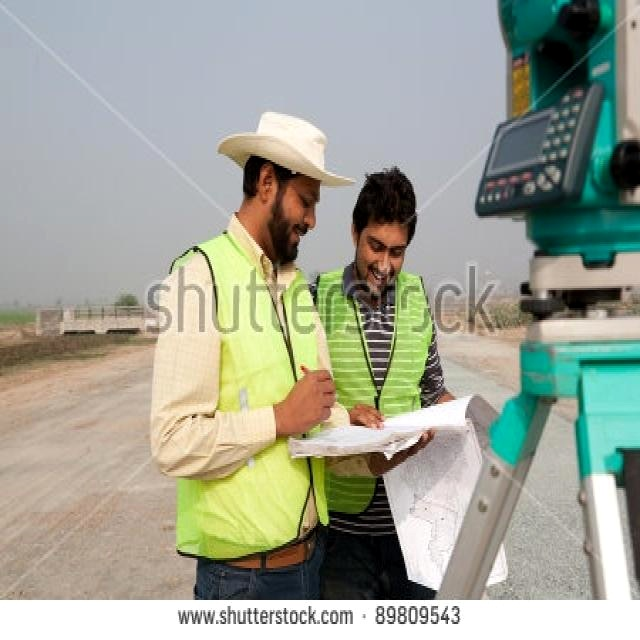Sin_Casco_Mascarrilla: (223, 112, 351, 248), (354, 168, 415, 281)
